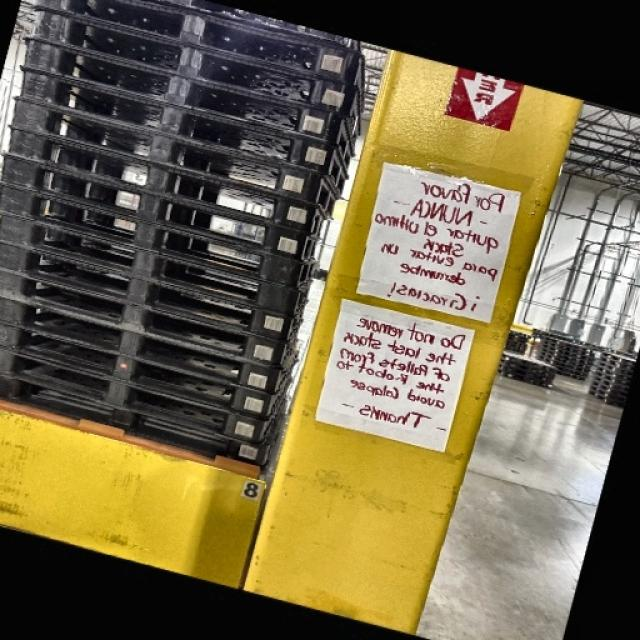igps: (8, 62, 344, 186), (18, 3, 355, 123), (1, 120, 324, 244), (12, 30, 340, 151), (6, 90, 329, 212), (0, 148, 317, 268), (0, 206, 307, 327), (0, 181, 312, 298), (0, 231, 300, 352), (0, 260, 293, 378), (0, 0, 376, 91), (0, 289, 289, 401), (0, 312, 274, 428), (0, 340, 269, 450), (0, 368, 272, 471), (500, 348, 559, 374), (496, 366, 555, 392), (496, 356, 558, 379), (496, 363, 556, 384), (538, 343, 598, 363), (538, 333, 594, 354), (538, 351, 593, 372), (538, 340, 597, 359), (537, 356, 593, 375), (538, 348, 596, 366), (586, 389, 626, 410), (590, 379, 630, 398), (599, 349, 638, 368), (594, 364, 635, 381), (593, 368, 634, 385), (590, 374, 631, 391), (596, 356, 638, 372), (587, 384, 628, 400), (592, 369, 632, 385), (596, 361, 636, 376), (555, 364, 590, 378), (556, 370, 588, 382)
